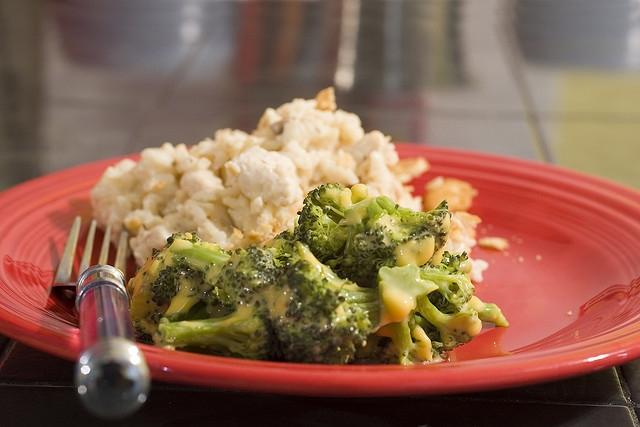broccoli: (376, 250, 482, 366), (336, 194, 452, 283), (263, 260, 380, 346), (152, 286, 279, 360), (164, 238, 278, 306), (298, 182, 348, 256), (151, 263, 211, 322)
